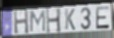3: (80, 6, 93, 31)
E: (95, 5, 110, 31)
H: (45, 7, 63, 35), (13, 9, 30, 35)
K: (64, 9, 76, 32)
M: (29, 9, 46, 33)
